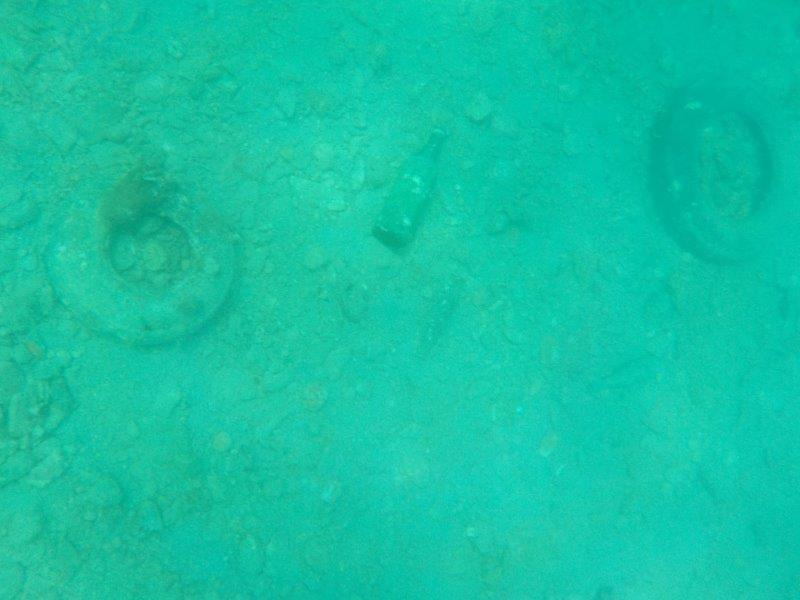bottle: (367, 122, 452, 254), (400, 264, 470, 369)
tire: (36, 152, 245, 356), (645, 75, 794, 276)
